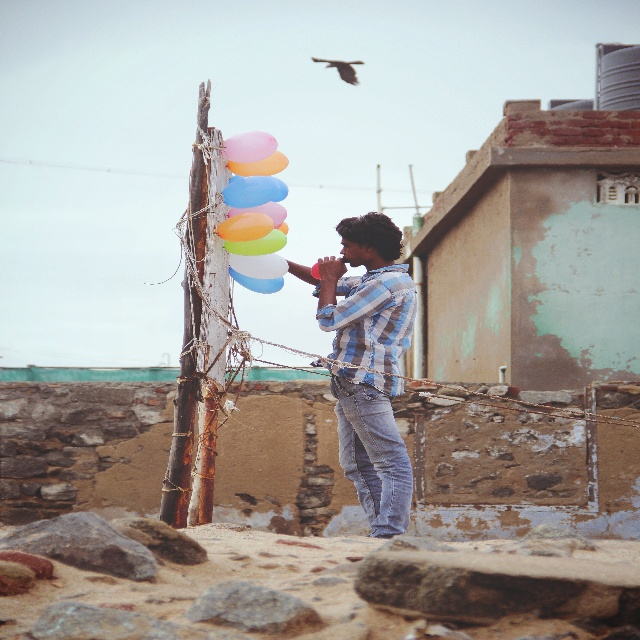Sin_guantes: (317, 256, 348, 282)
